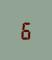six: (19, 19, 30, 40)
